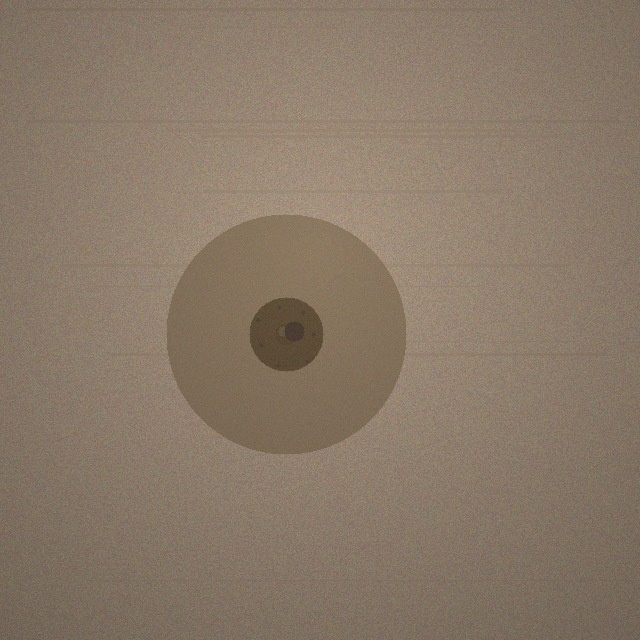cold_weld: (166, 214, 406, 454)
